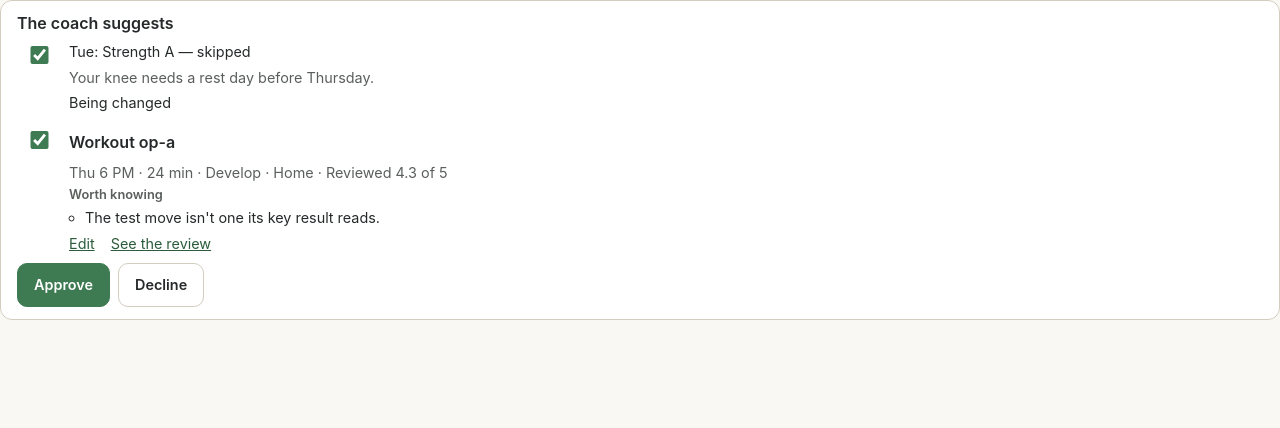
it: a designed suggestion's card › a change an approve is applying: being added, still open — Approve finishes it; a decline that meets it says it can't be declined
Click the button "Decline" at (161, 285), box 118,263 -> 204,307
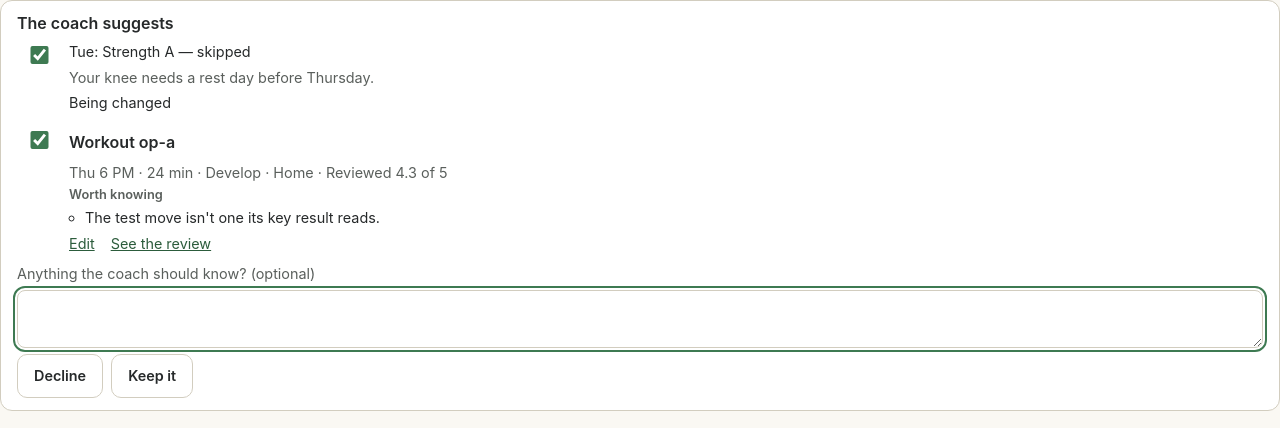
Click the button "Decline" at (60, 376), box 17,354 -> 103,398
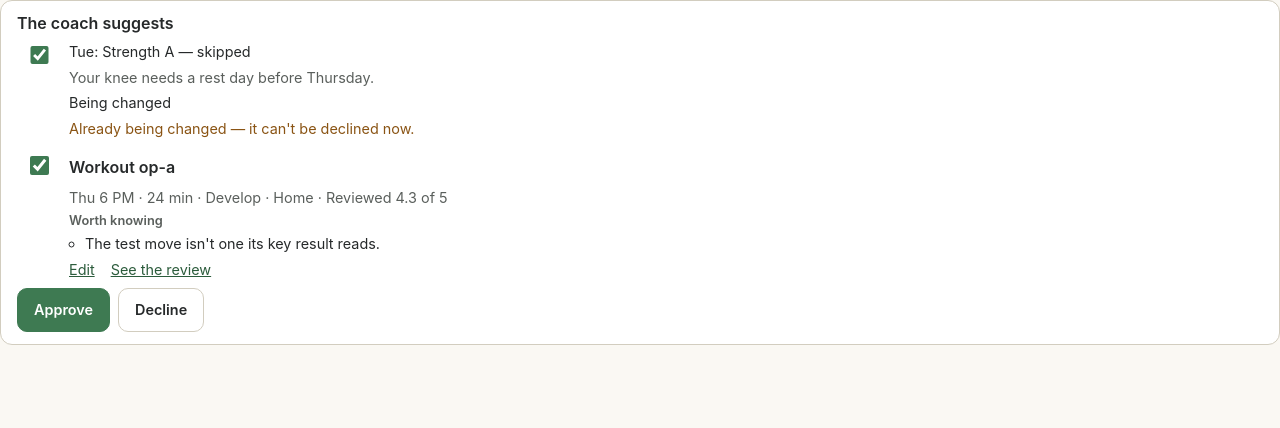
Click the button "Approve" at (64, 310), box 17,288 -> 110,332
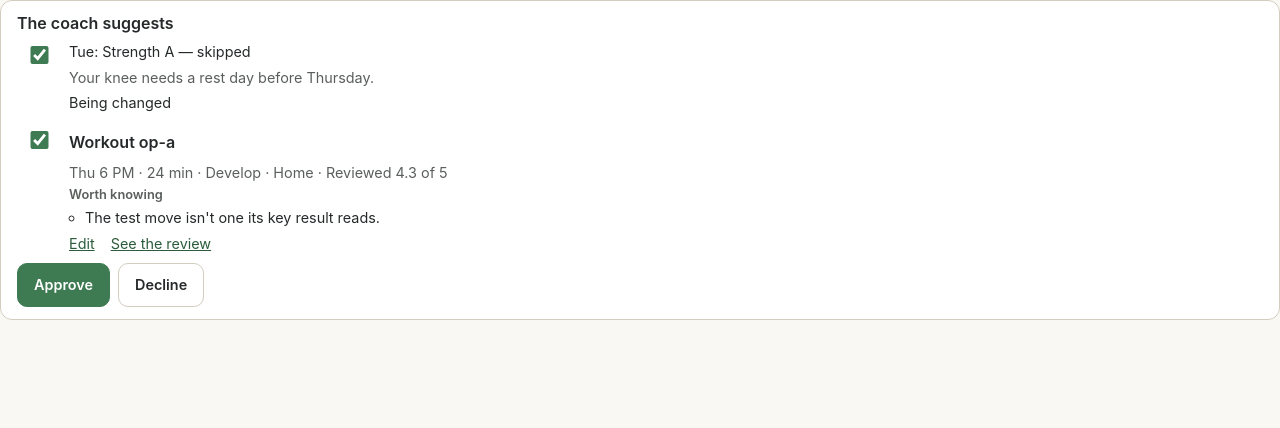
Result: the text "Already being changed" is gone
